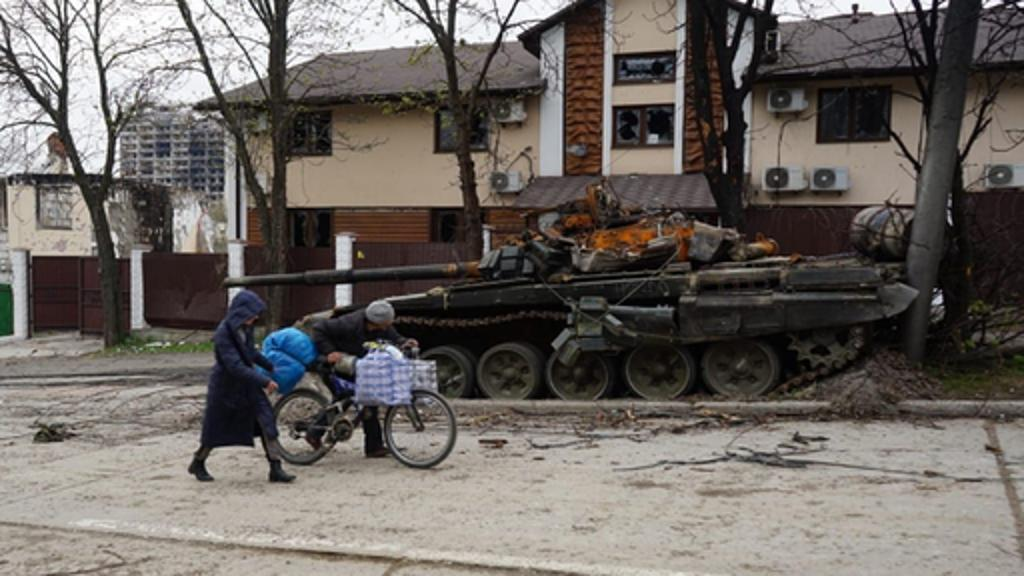TANK: (192, 184, 912, 420)
